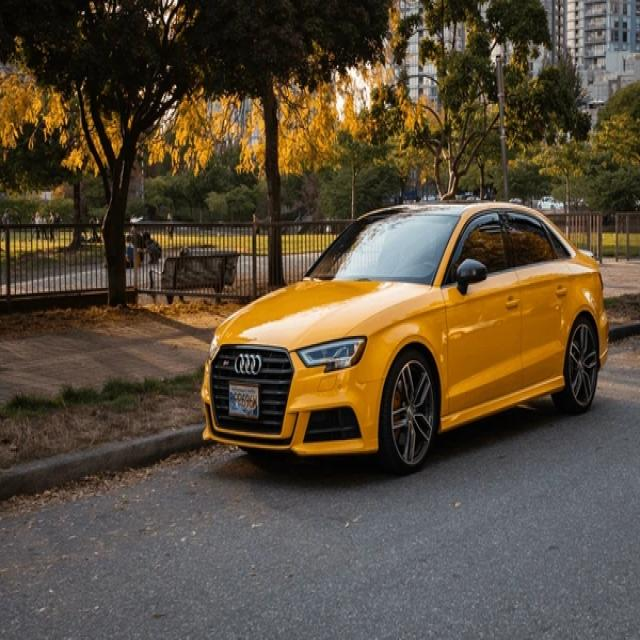audi: (231, 353, 266, 376)
